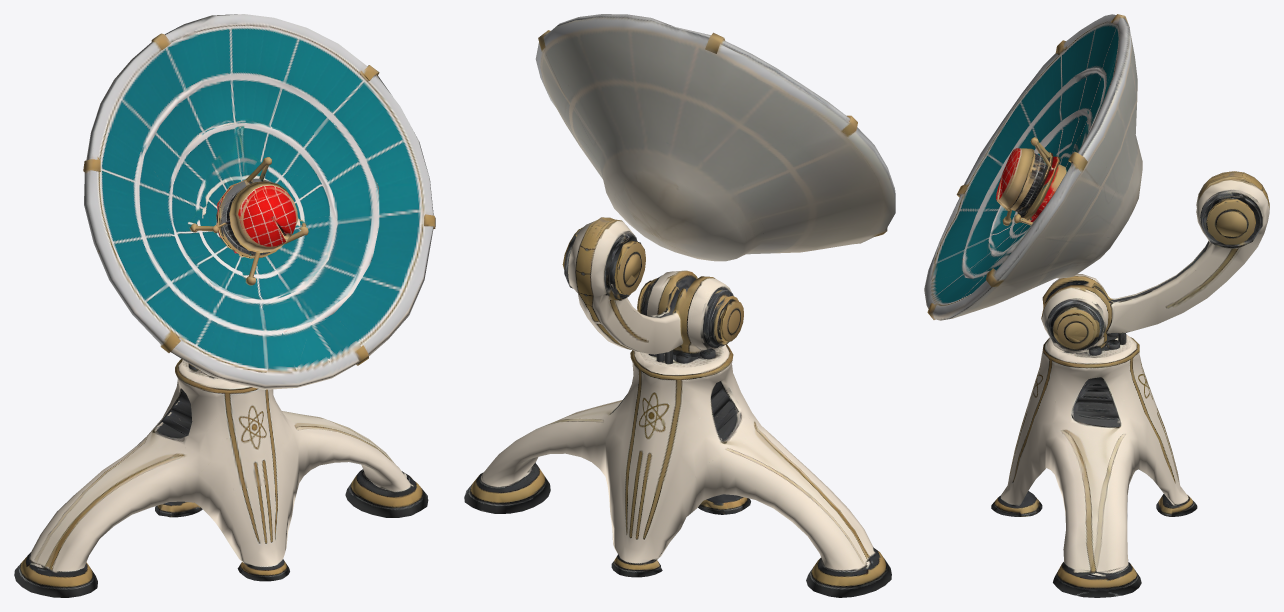
File: solar_array.fbx
3 renders of one model, left to right at view 1: azimuth 30°, elevation 25°; view 2: azimuth 150°, elevation 25°; view 3: azimuth 270°, elevation 25°, orthographic. The views are drawn at different scales.
Parts seen in each view (by area): view 1: Mesh_0; view 2: Mesh_0; view 3: Mesh_0.
Part boxes in pixels (bbox=[...]): Mesh_0: bbox=[14, 14, 435, 597]; Mesh_0: bbox=[464, 14, 895, 597]; Mesh_0: bbox=[924, 14, 1269, 597].
Size of the model in its own units: 78.17 by 95.12 by 62.89.
1 material, 1 textured.
